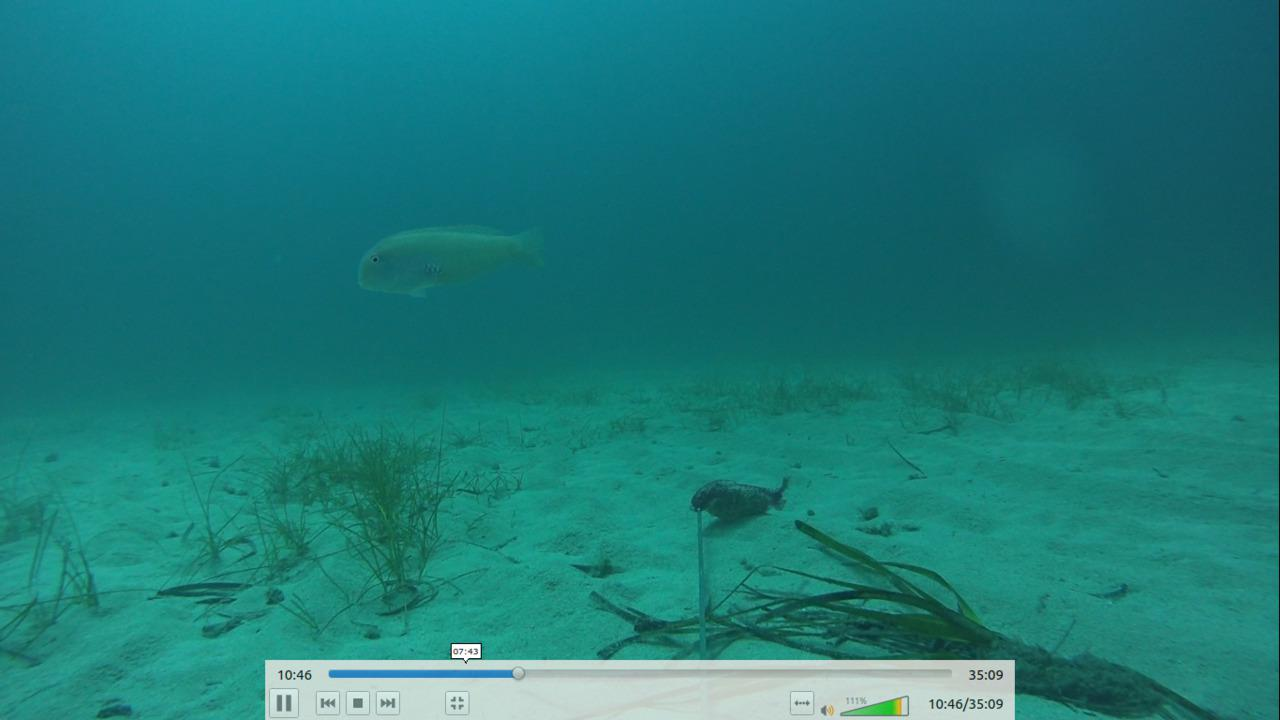raor: (350, 219, 546, 303)
